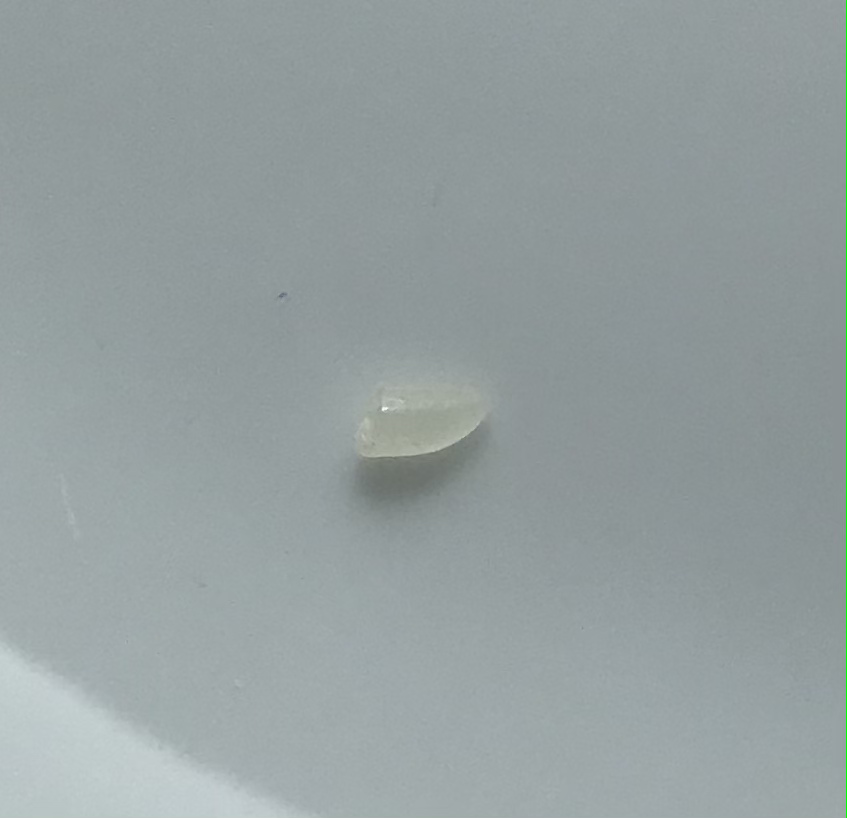Gao Tam: (348, 370, 496, 464)
